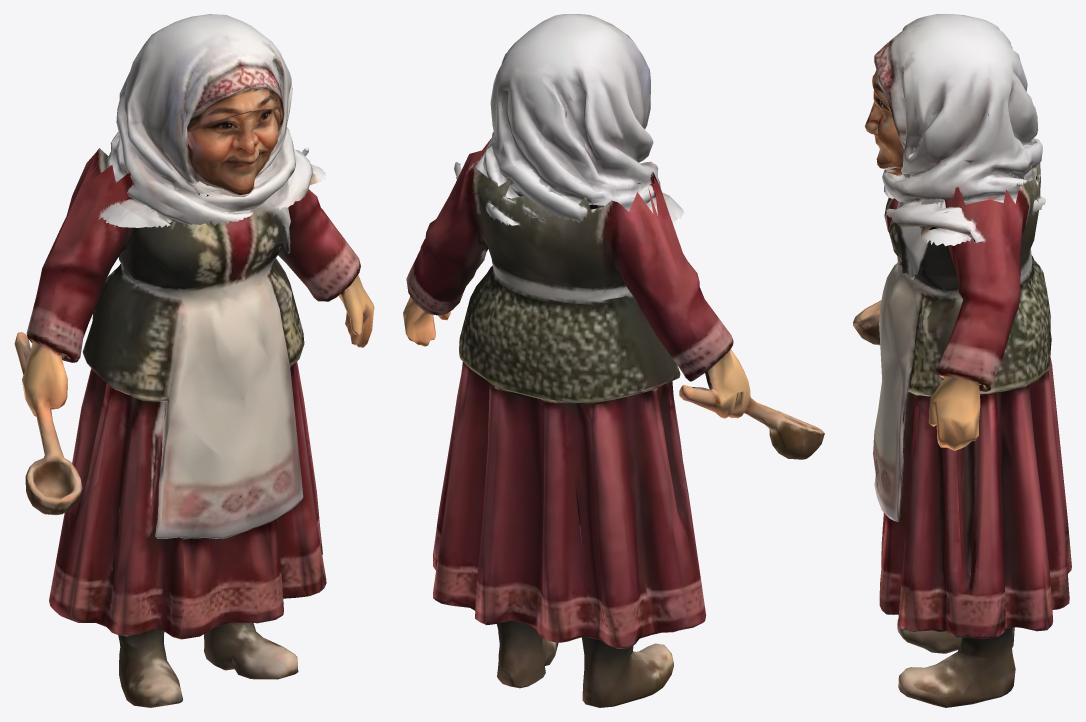
Rendered from cook.gen.glb.
3 views of the same model, side by side, from view 1: azimuth 30°, elevation 25°; view 2: azimuth 150°, elevation 25°; view 3: azimuth 270°, elevation 25° (orthographic).
Visible parts, largest first — view 1: cook.raw; view 2: cook.raw; view 3: cook.raw.
Part boxes in pixels (bbox=[...]): cook.raw: bbox=[14, 14, 374, 707]; cook.raw: bbox=[403, 14, 824, 707]; cook.raw: bbox=[853, 14, 1071, 707].
Bounding box in the file's own units: 1.06 × 1.75 × 0.5323.
Materials: 1 (1 with a texture image).
